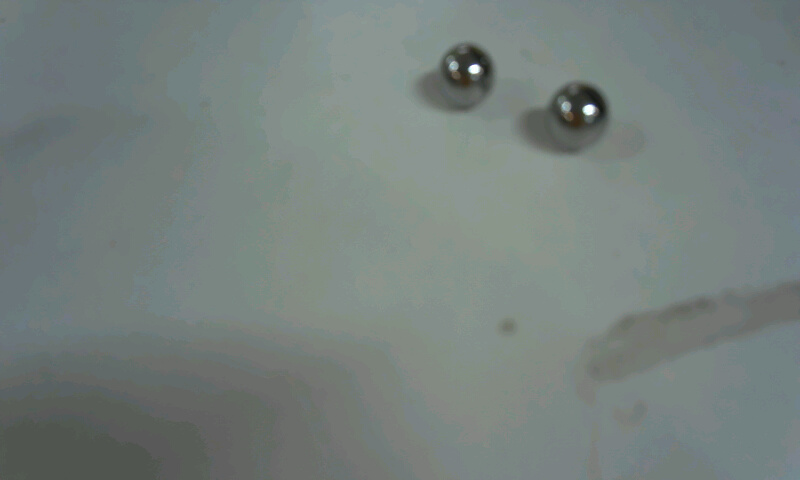steelball: (531, 71, 630, 171), (429, 36, 503, 118)
